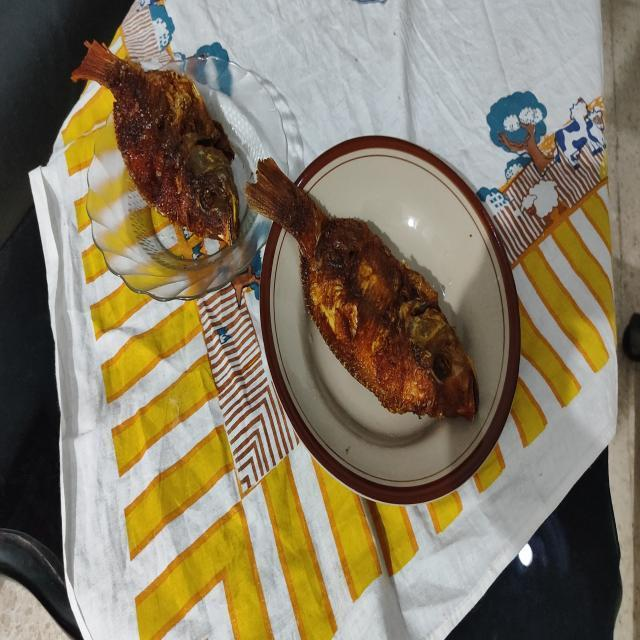ikan_mujair: (246, 159, 479, 420), (72, 40, 240, 244)
